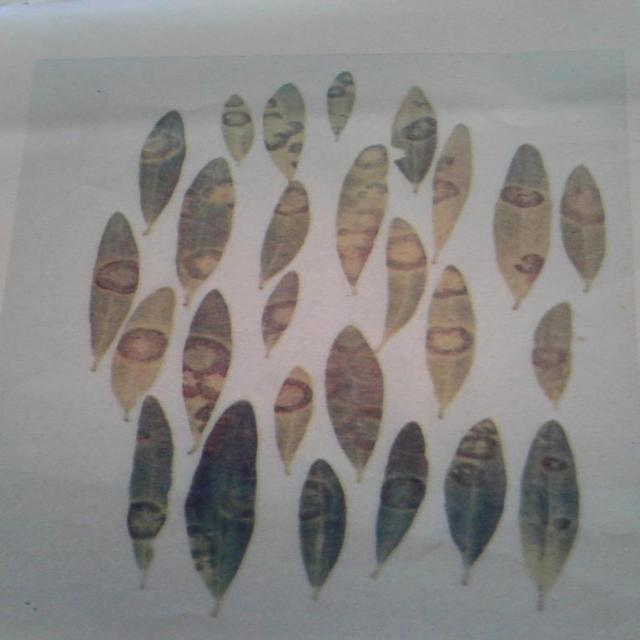OlivePeacockSpot: (185, 402, 257, 598), (520, 420, 579, 599), (494, 144, 552, 310), (444, 419, 506, 565), (127, 398, 172, 588), (326, 327, 383, 472), (112, 288, 174, 420), (181, 290, 231, 453), (375, 422, 428, 567), (177, 158, 234, 292), (337, 144, 388, 290), (428, 266, 476, 418), (90, 212, 137, 362), (300, 460, 346, 600), (140, 110, 186, 232), (560, 166, 602, 292), (384, 218, 426, 343), (432, 124, 470, 262), (260, 181, 308, 285), (391, 86, 436, 192), (532, 302, 572, 408), (274, 367, 312, 472), (264, 84, 304, 180), (262, 270, 299, 358), (222, 94, 250, 164), (328, 71, 356, 141)
